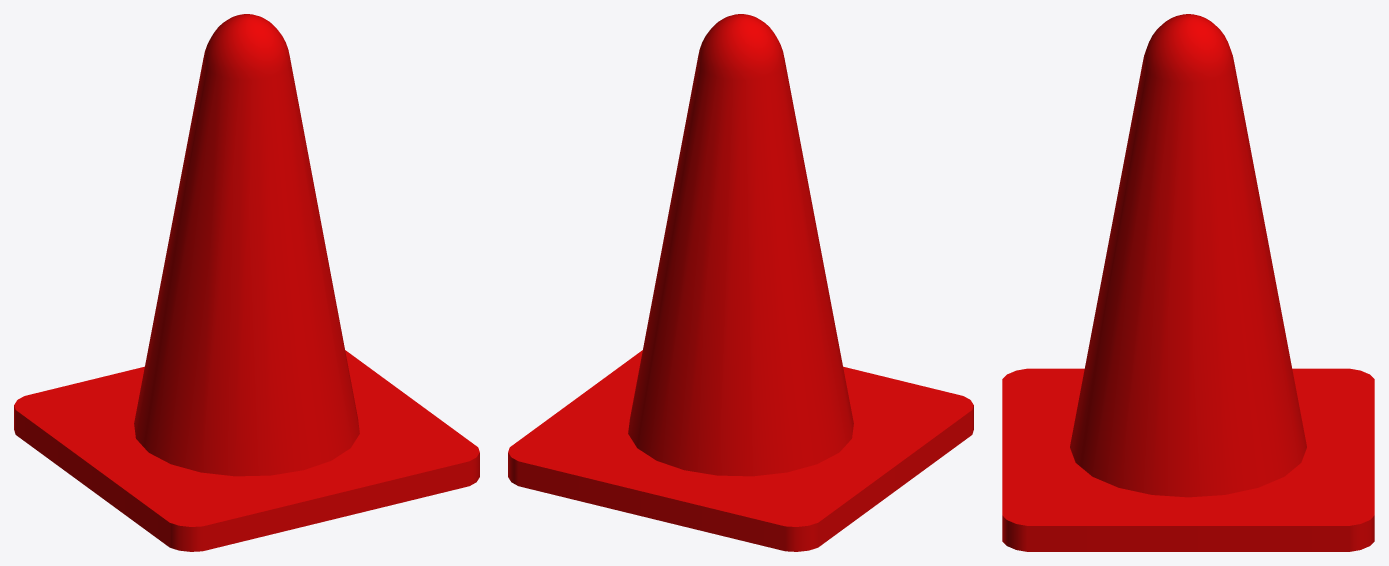
The model's file is corn_anime.fbx.
3 views of the same model, side by side, from view 1: azimuth 30°, elevation 25°; view 2: azimuth 150°, elevation 25°; view 3: azimuth 270°, elevation 25° (orthographic). The views are drawn at different scales.
Visible parts, largest first — view 1: pCube3; view 2: pCube3; view 3: pCube3.
Boxes of the visible parts, x1,y1,x2,y2 form: pCube3: (14,14,479,551); pCube3: (508,14,973,551); pCube3: (1002,14,1374,551).
Size of the model in its own units: 2.05 by 2.76 by 2.05.
